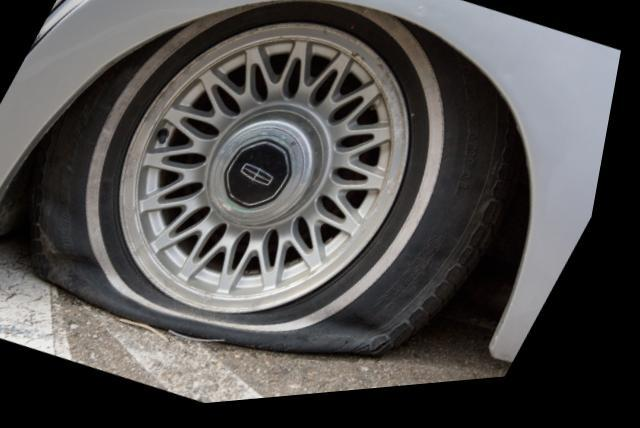tire flat: (36, 5, 526, 366)
